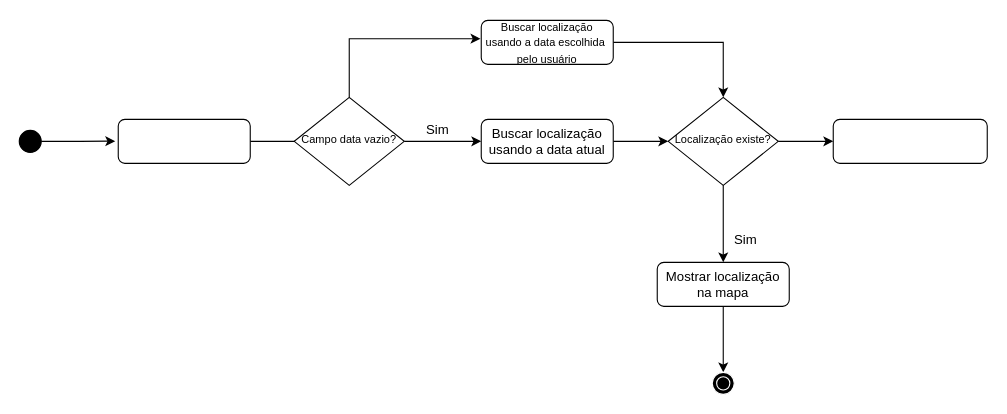
This 1007x414 diagram has some shape labels left out. Each missing label, with the centre of its shape:
"Mostrar mensagem de aviso" belongs at point (909, 140).
"Pegar turno do aluno selecionado" belongs at point (183, 140).
